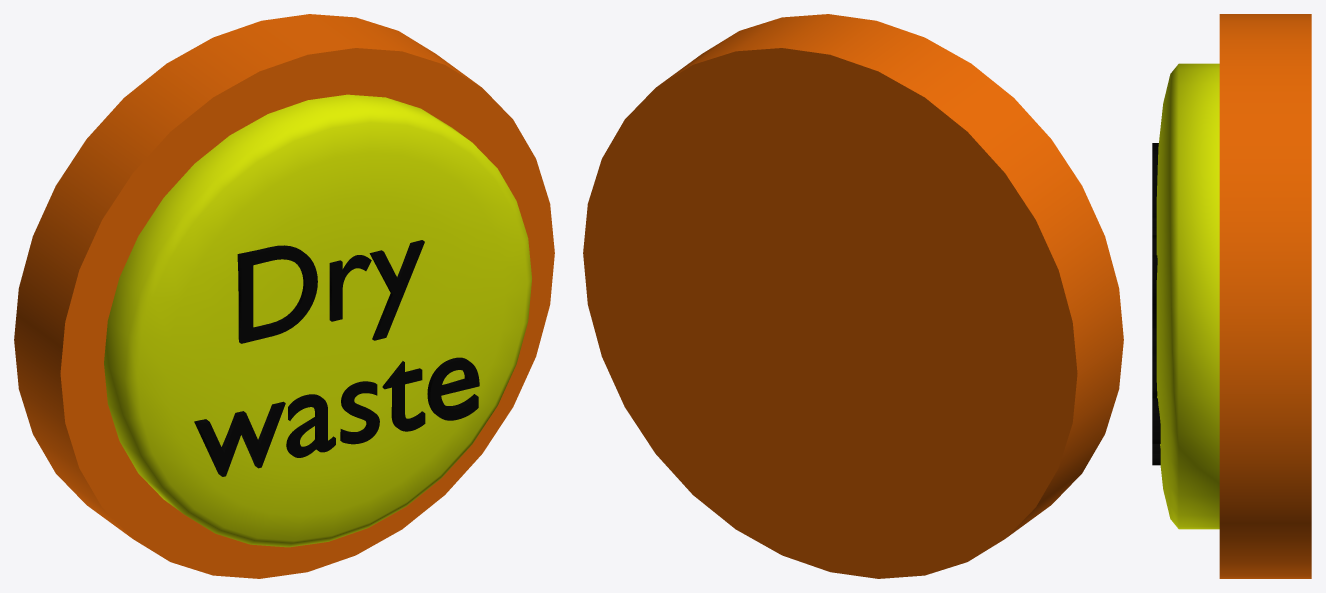
The model's file is dry button.gltf.
The picture shows the model from 3 angles, left to right: view 1: azimuth 30°, elevation 25°; view 2: azimuth 150°, elevation 25°; view 3: azimuth 270°, elevation 25°; orthographic projection.
Visible parts, largest first — view 1: Cylinder, Text; view 2: Cylinder; view 3: Cylinder, Text.
Part boxes in pixels (x1=…): Cylinder: x1=14, y1=14, x2=554, y2=578; Text: x1=194, y1=240, x2=479, y2=476; Cylinder: x1=583, y1=14, x2=1123, y2=578; Cylinder: x1=1156, y1=14, x2=1311, y2=578; Text: x1=1152, y1=143, x2=1160, y2=465.
Bounding box in the file's own units: 2 × 2 × 0.5638.
